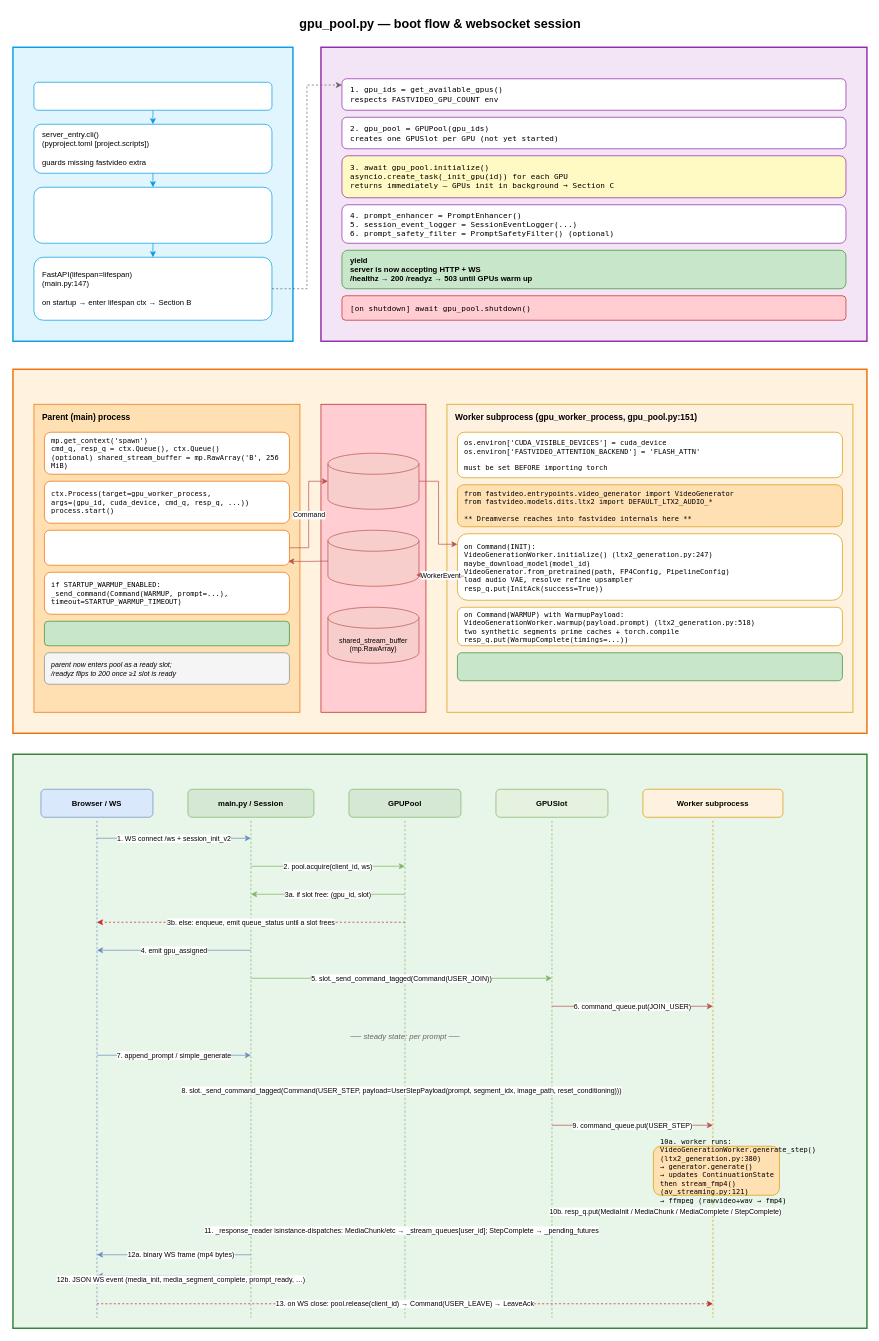
The diagram is 879 pixels wide and 1341 high, and some of its shapes have lost their labels. Here are the shapes that lost their labels. From the top down, the box of each, then its label:
(33, 82, 272, 110): $ uv run dreamverse-server
(12, 46, 293, 342): A. Call chain
(320, 46, 867, 342): B. lifespan() zoom (main.py:116-144)
(33, 187, 272, 243): main.cli() (main.py:2325) argparse --host/--port uvicorn.run(app, host, port)
(327, 453, 419, 509): command_queue (mp.Queue)
(44, 530, 289, 565): _send_command(Command(INIT), timeout=600s) await response on resp_q
(320, 404, 426, 712): IPC
(327, 530, 419, 586): response_queue (mp.Queue)
(12, 368, 867, 734): C. GPUSlot.start() zoom — runs in background per GPU (gpu_pool.py:426)
(44, 621, 289, 646): slot.ready = True
(457, 652, 842, 681): enter main worker loop → waits for JOIN_USER / USER_STEP / LEAVE
(12, 753, 867, 1329): D. WebSocket session — after startup
